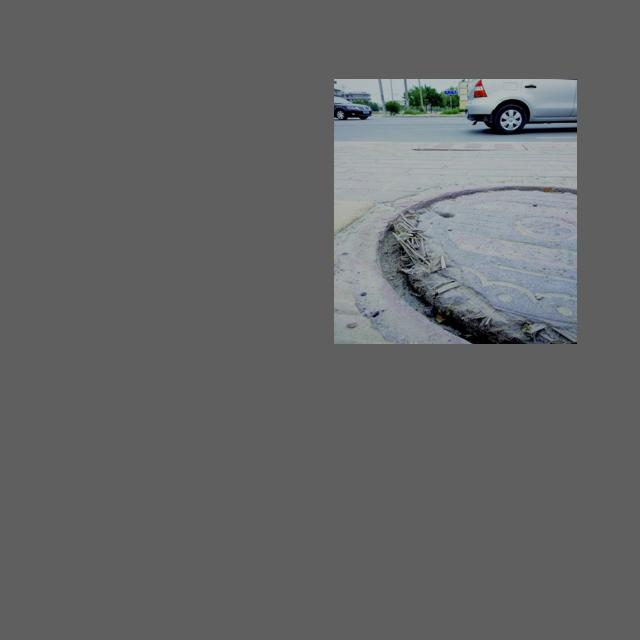circle: (347, 177, 572, 338)
